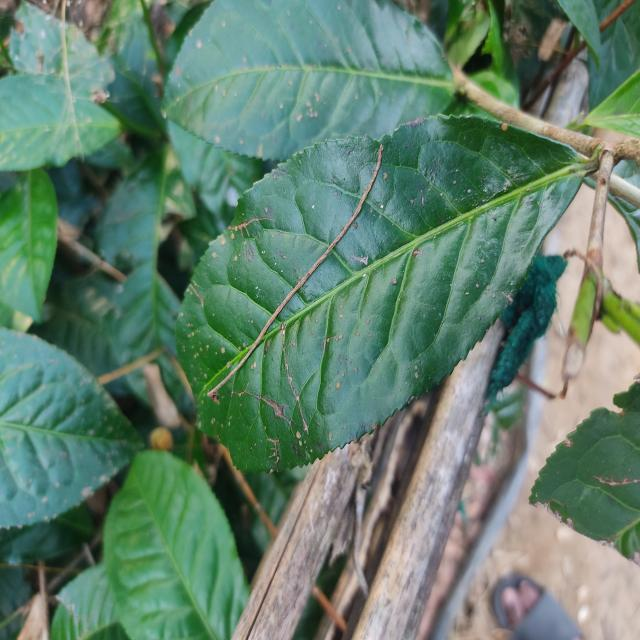Category D 7+ days, Not for Tea: (162, 102, 592, 502)
